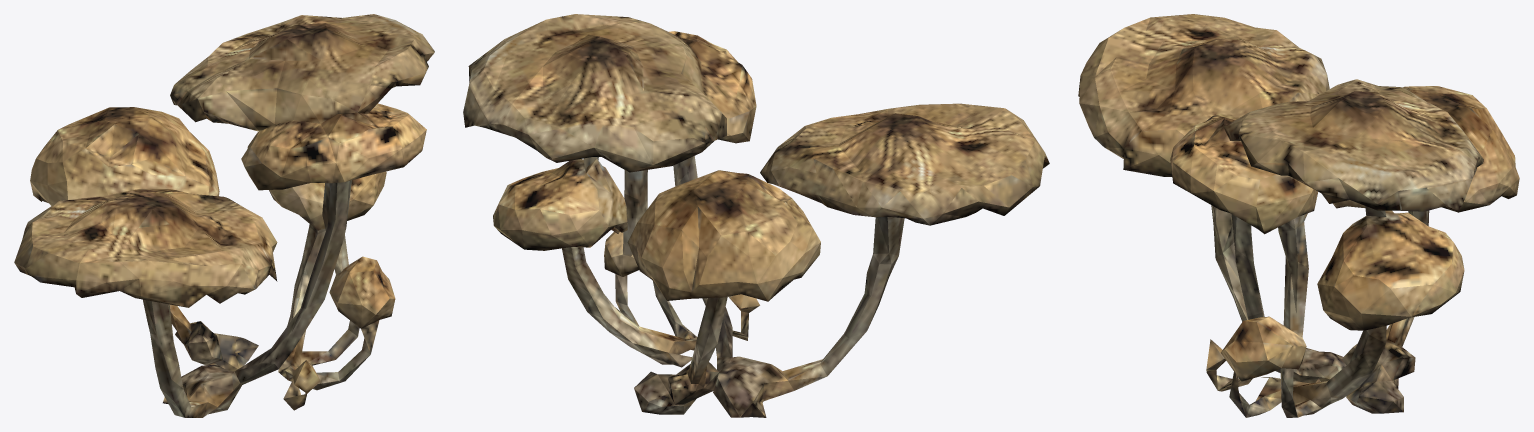
File: P_Xinbaogu_04.obj
3 views of the same model, side by side, from view 1: azimuth 30°, elevation 25°; view 2: azimuth 150°, elevation 25°; view 3: azimuth 270°, elevation 25° (orthographic). The views are drawn at different scales.
Size of the model in its own units: 0.6892 by 0.4646 by 0.525.
1 material, 1 textured.
